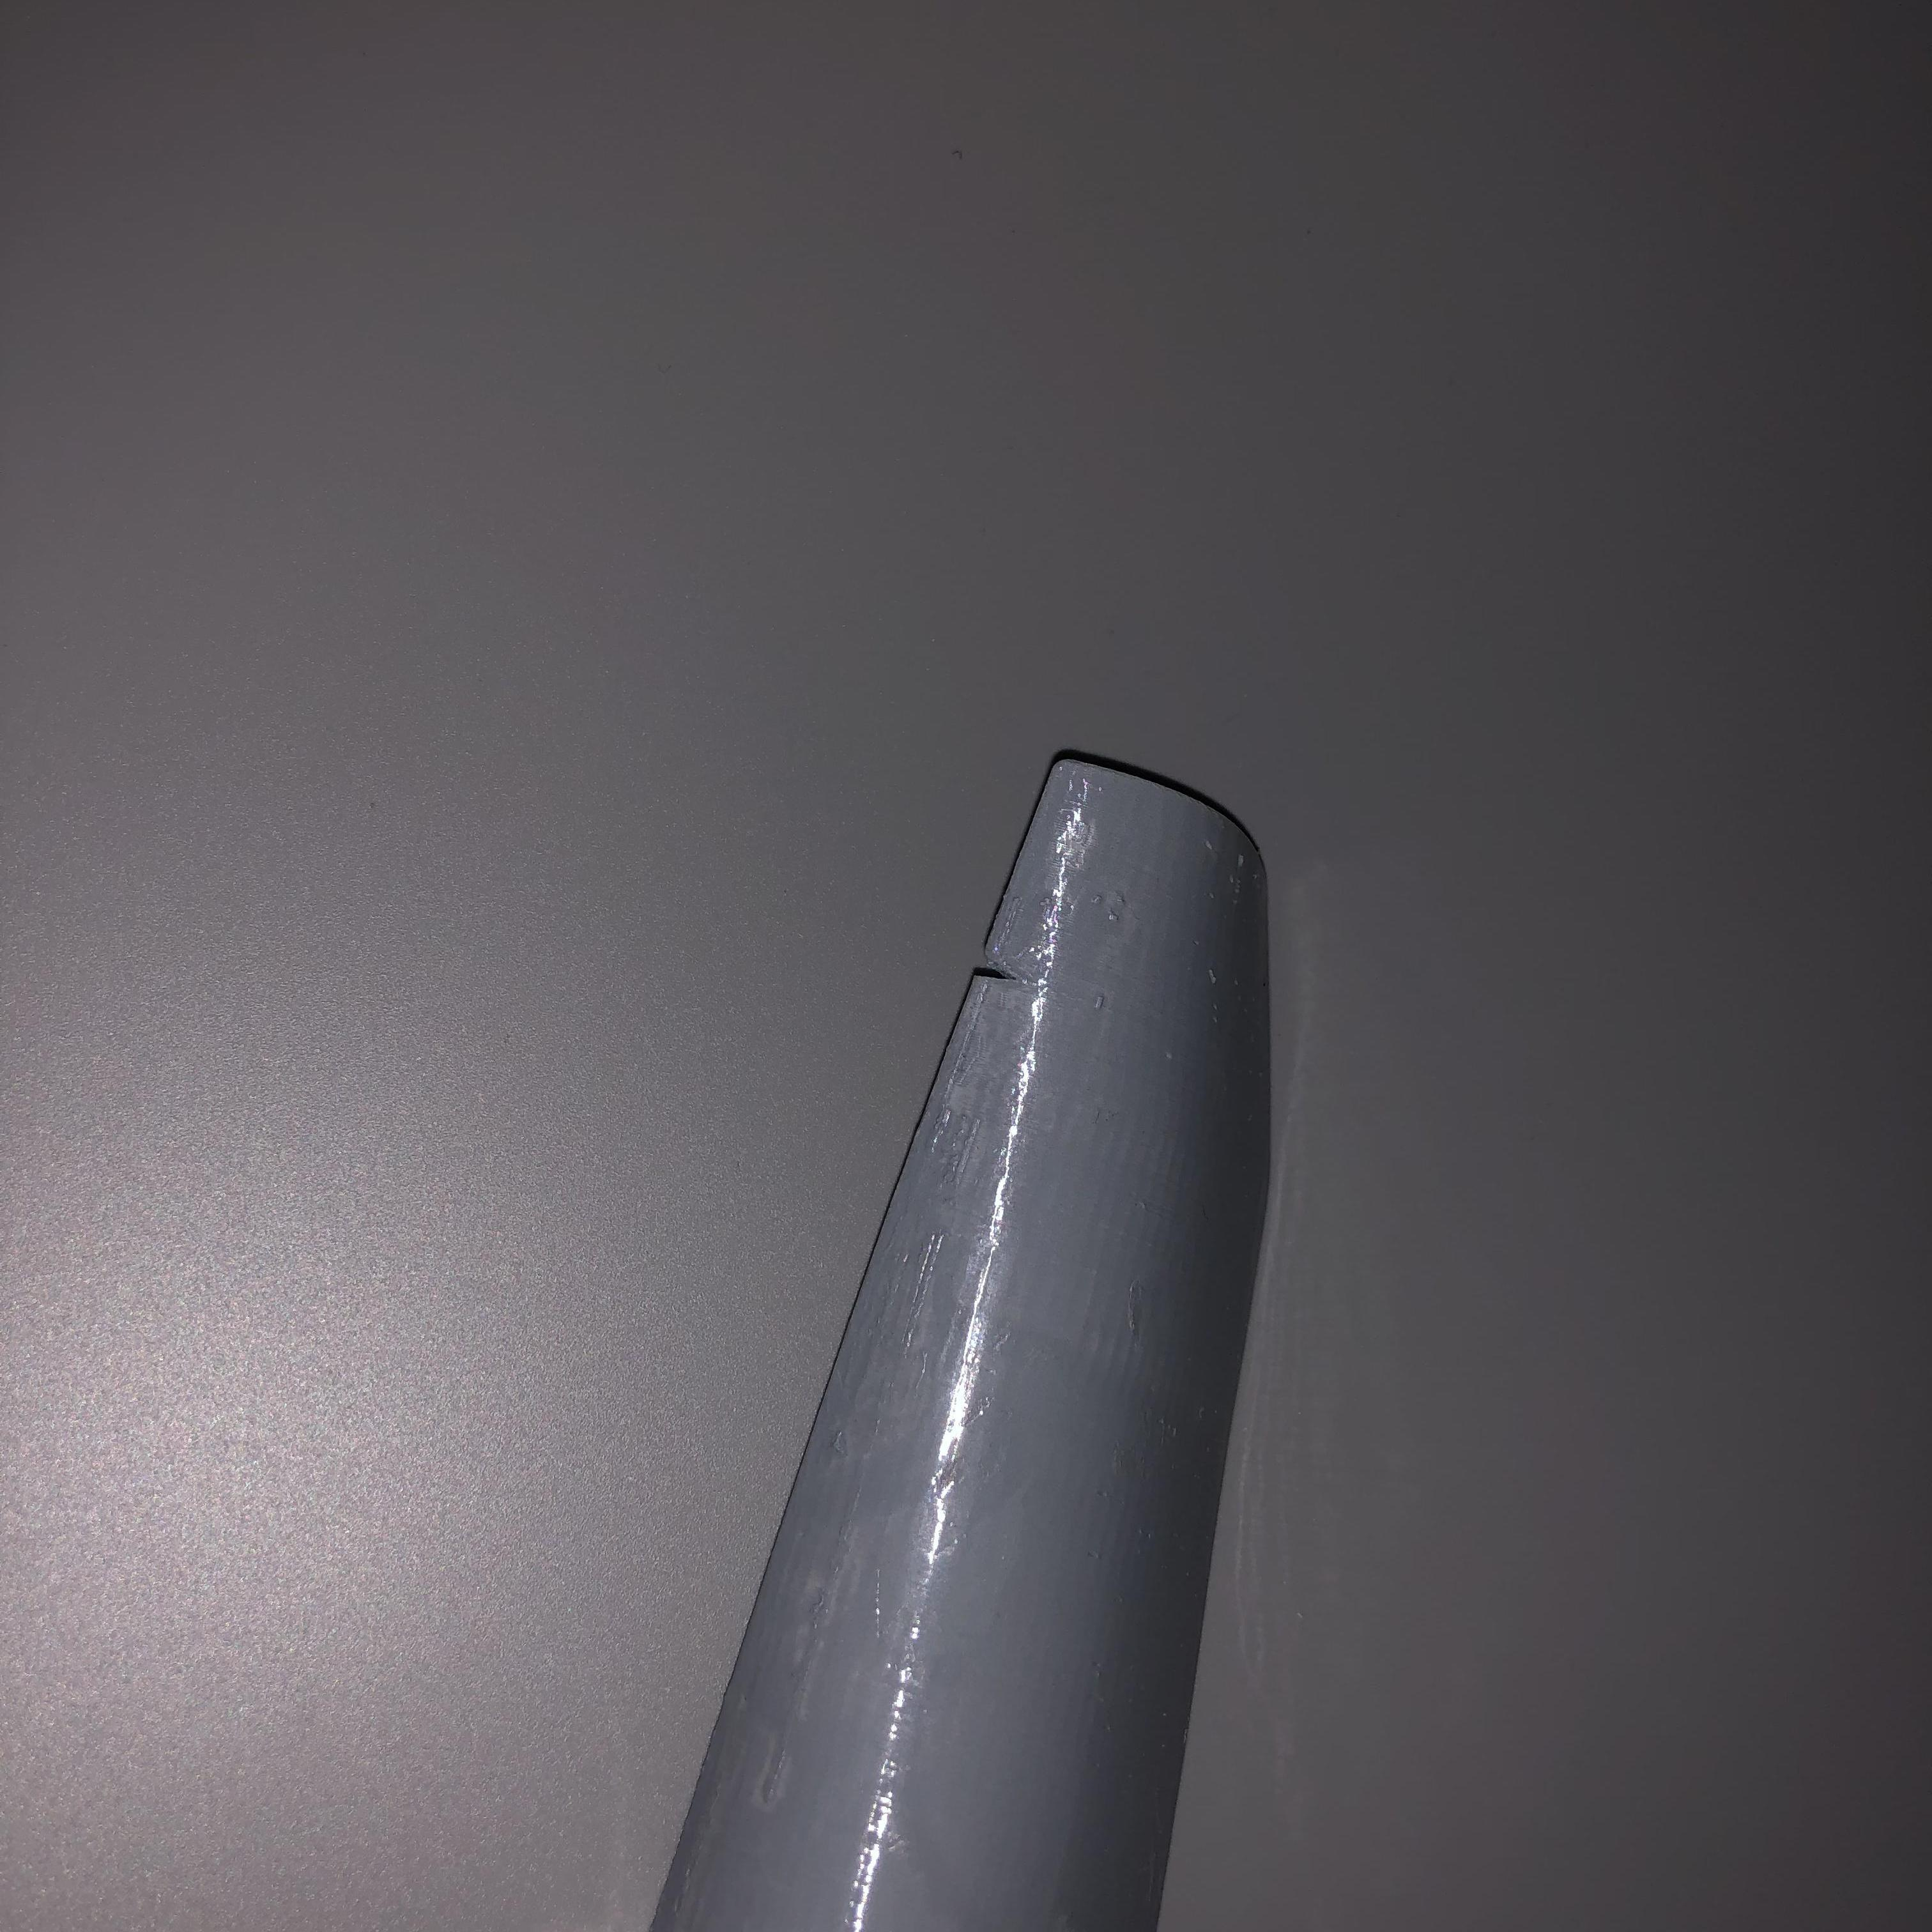groove: (968, 943, 1030, 989)
